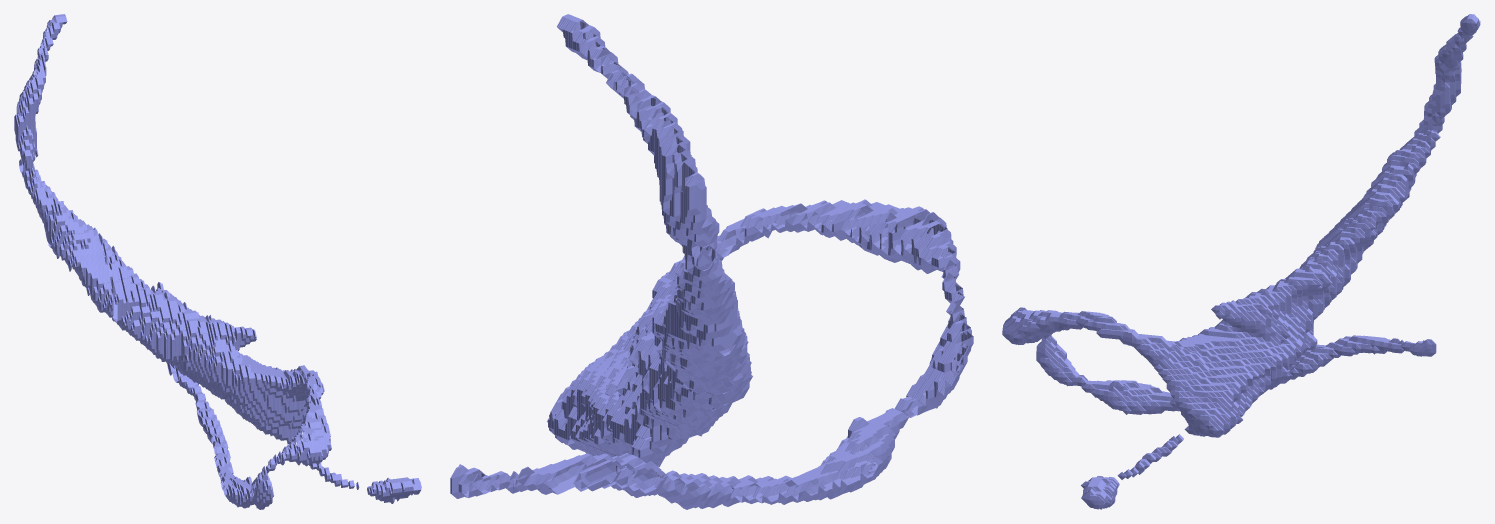
File: SVV_IL1VL.gltf
3 views of the same model, side by side, from view 1: azimuth 30°, elevation 25°; view 2: azimuth 150°, elevation 25°; view 3: azimuth 270°, elevation 25° (orthographic). The views are drawn at different scales.
Parts seen in each view (by area): view 1: IL1VL; view 2: IL1VL; view 3: IL1VL.
Boxes of the visible parts, <box> form: IL1VL: <box>14,14,421,509</box>; IL1VL: <box>450,14,973,509</box>; IL1VL: <box>1002,14,1480,509</box>.
Bounding box in the file's own units: 39701 × 63319 × 66777.
